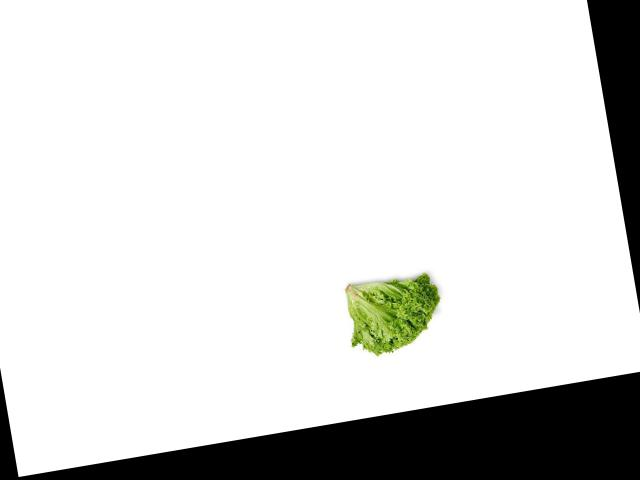lettuce: (336, 261, 453, 365)
